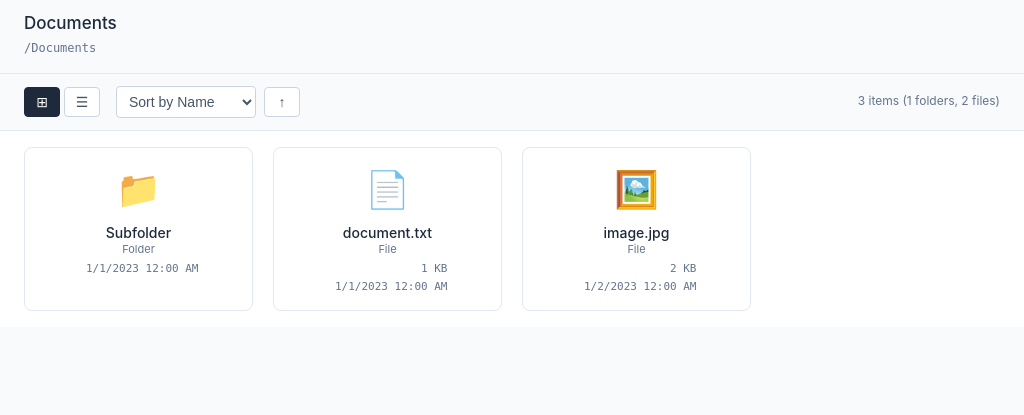
Scenario: FolderContents › switches between grid and list view
Check: the element with class "items-container" is shown, box x1=24 y1=147 x2=751 y2=311
Note: Switch to list view
Click the button "☰" at (82, 102), box x1=64 y1=87 x2=100 y2=117
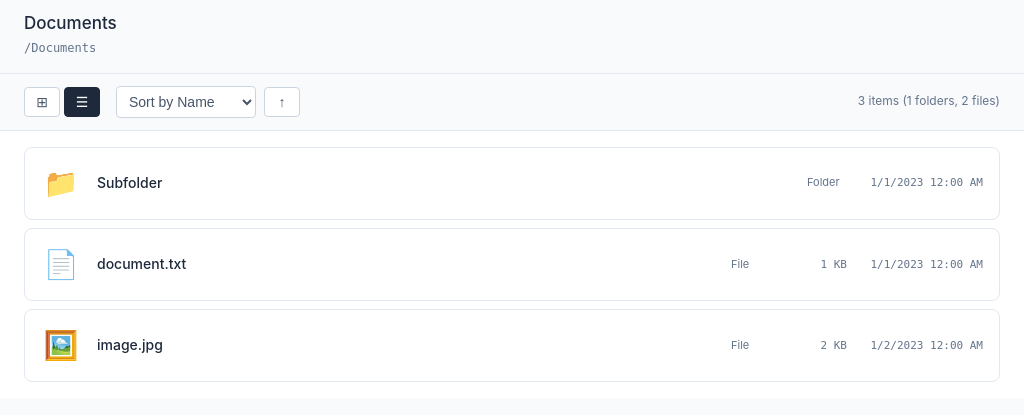
Check: the element with class "list" is shown
